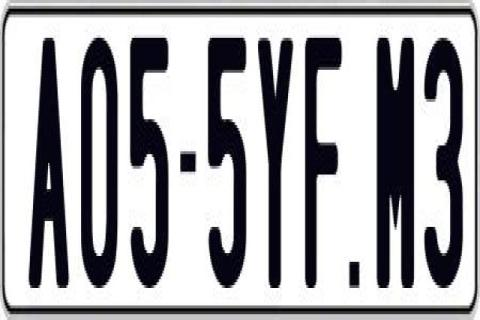0: (130, 38, 174, 306), (81, 38, 121, 306), (422, 38, 462, 297), (208, 32, 246, 294)
A: (27, 35, 67, 291)
F: (306, 35, 346, 299)
M: (376, 35, 417, 297)
Y: (256, 38, 298, 306)
